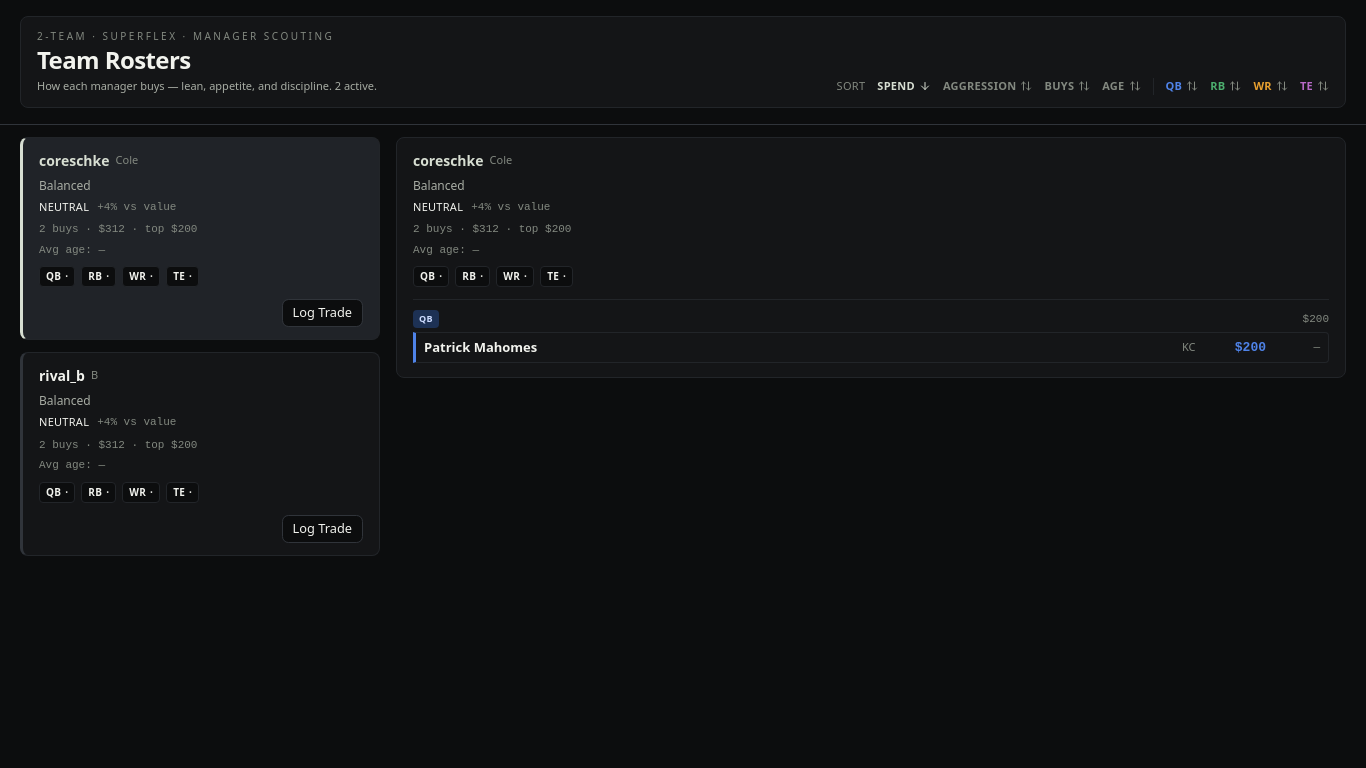
RosterTracker › RosterTracker — desktop split view › updates the detail pane when a different team is clicked in the list
Click the button with test id "dossier-expand-2".
click(62, 376)  # box 39,366 -> 199,502
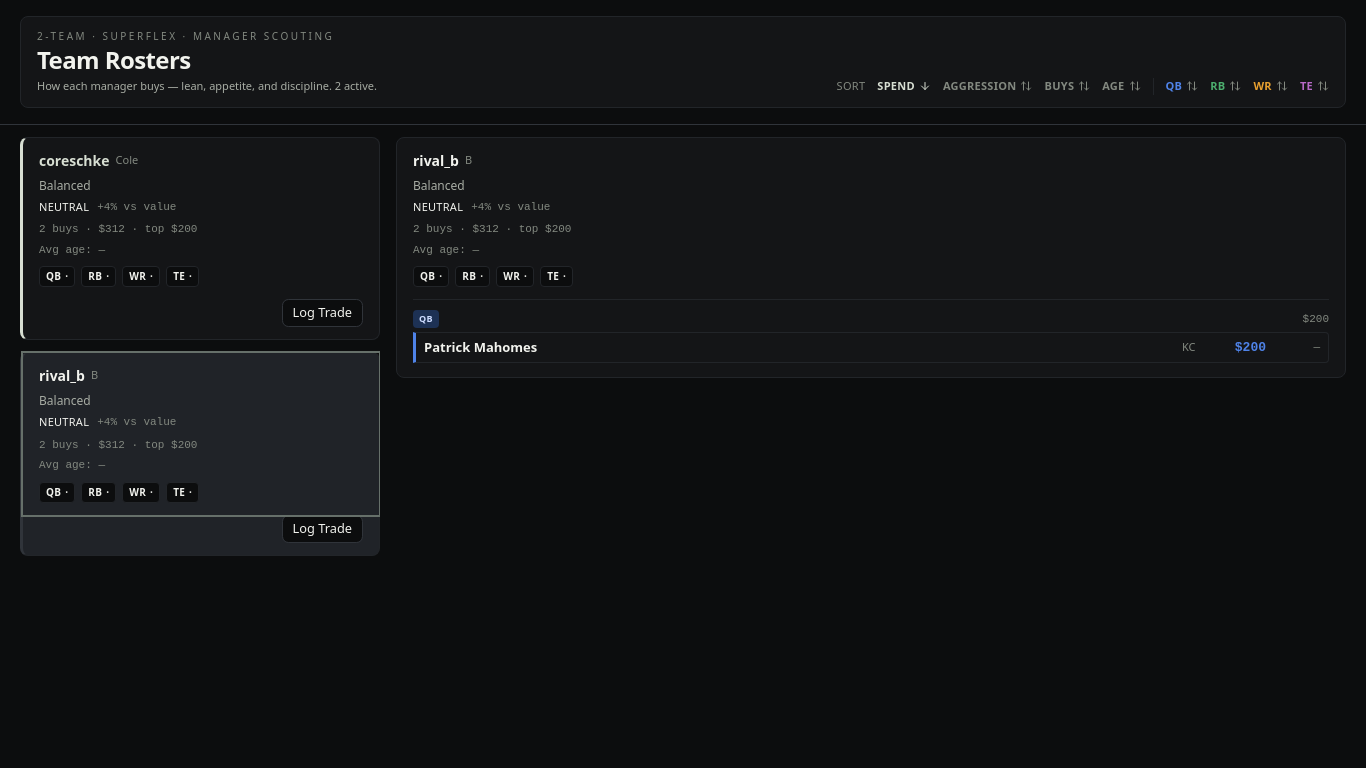
Now the element with test id "team-detail-pane" shows "rival_b", box 413,150 -> 459,170
